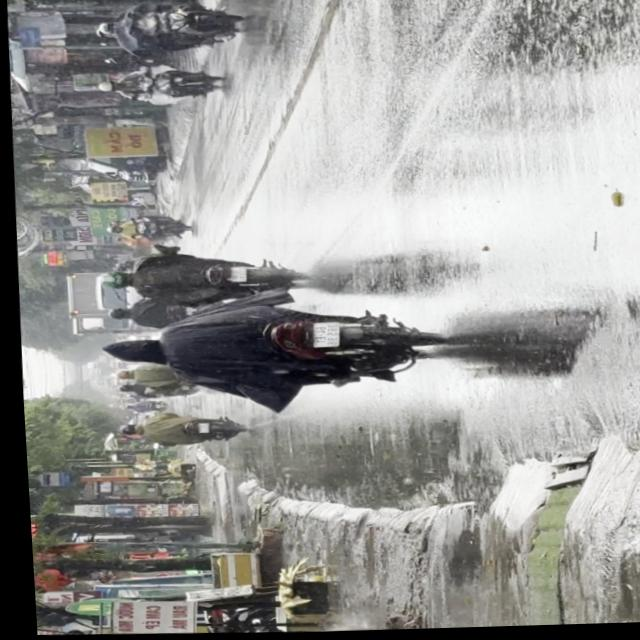helmet: (96, 336, 157, 367), (91, 269, 126, 289), (94, 79, 116, 91)
licenseplate: (88, 290, 446, 415), (88, 248, 301, 306), (91, 64, 224, 104)
nohelmet: (306, 324, 334, 348), (224, 267, 240, 282)
